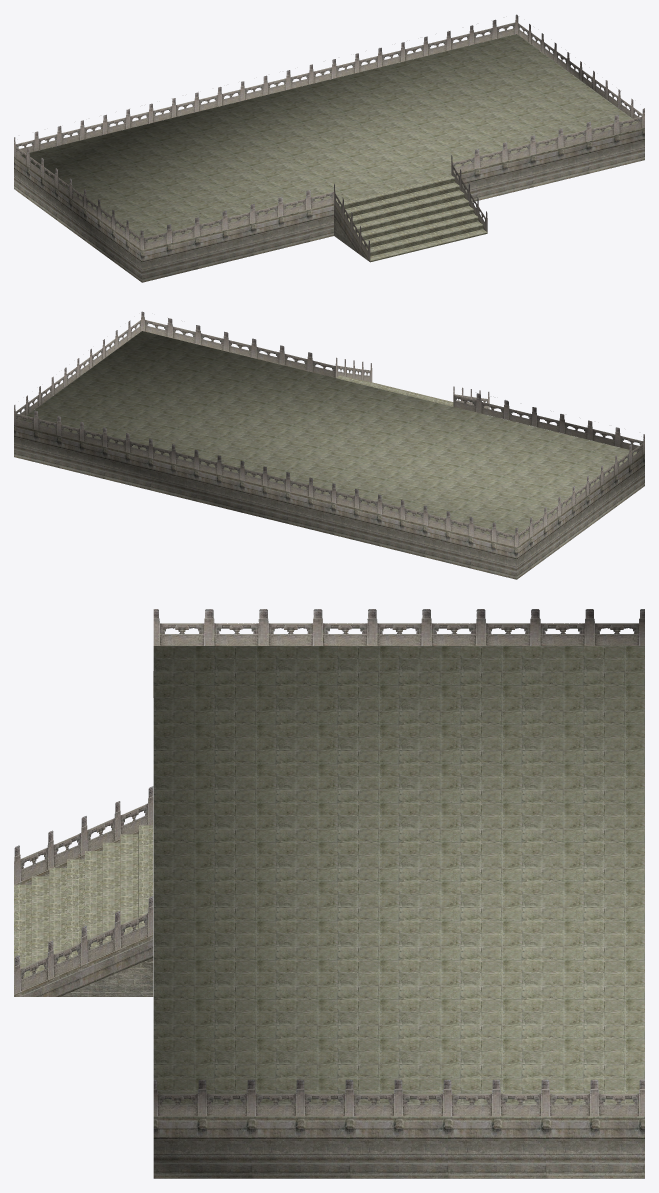
File: cj_pal_guard_dan.glb
The picture shows the model from 3 angles, top to bottom: view 1: azimuth 30°, elevation 25°; view 2: azimuth 150°, elevation 25°; view 3: azimuth 270°, elevation 25°; orthographic projection. The views are drawn at different scales.
Visible parts, largest first — view 1: CJ_pal_guard_dan_floor01, CJ_pal_guard_dan_wall, CJ_pal_guard_dan_fence_al, CJ_pal_guard_dan_floor02; view 2: CJ_pal_guard_dan_floor01, CJ_pal_guard_dan_wall, CJ_pal_guard_dan_fence_al, CJ_pal_guard_dan_floor02; view 3: CJ_pal_guard_dan_floor01, CJ_pal_guard_dan_wall, CJ_pal_guard_dan_fence_al, CJ_pal_guard_dan_floor02.
Part boxes in pixels (x1,y1,x2,y2): CJ_pal_guard_dan_floor01: (22, 34, 644, 250); CJ_pal_guard_dan_wall: (14, 128, 644, 282); CJ_pal_guard_dan_fence_al: (14, 14, 644, 261); CJ_pal_guard_dan_floor02: (338, 175, 487, 262); CJ_pal_guard_dan_floor01: (21, 331, 636, 539); CJ_pal_guard_dan_wall: (14, 425, 644, 579); CJ_pal_guard_dan_fence_al: (14, 311, 644, 547); CJ_pal_guard_dan_floor02: (336, 375, 453, 406); CJ_pal_guard_dan_floor01: (153, 646, 644, 1118); CJ_pal_guard_dan_wall: (14, 833, 644, 1178); CJ_pal_guard_dan_fence_al: (14, 609, 644, 1116); CJ_pal_guard_dan_floor02: (14, 825, 153, 977).
Bounding box in the file's own units: 36 × 3.65 × 20.4.
Materials: 4 (4 with a texture image).
